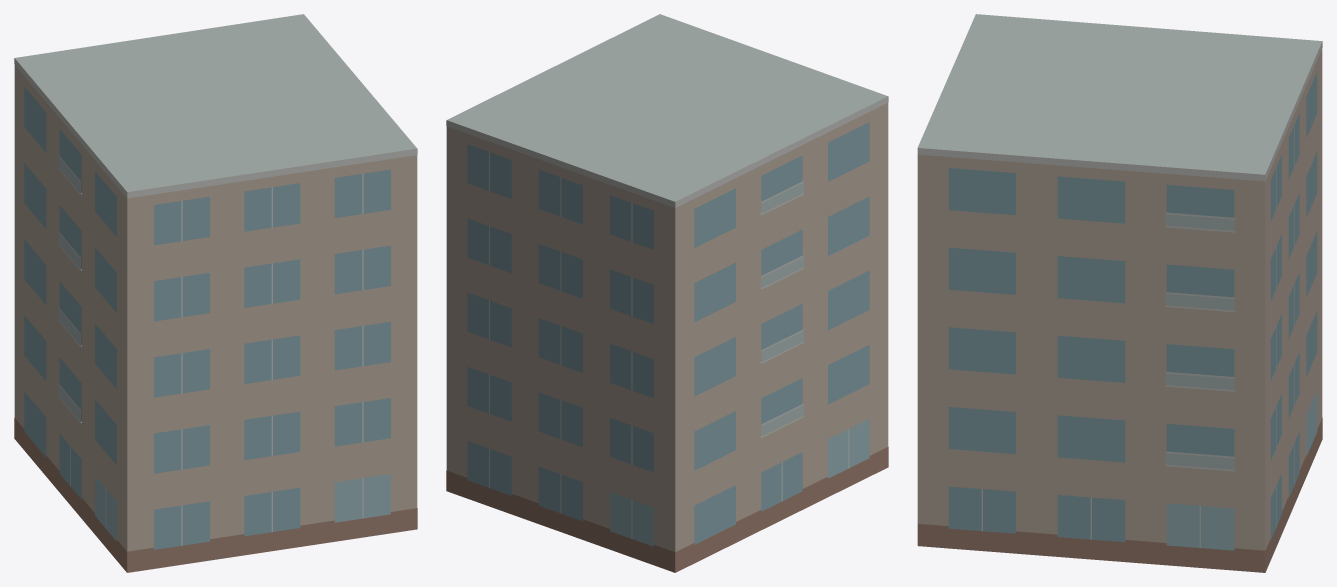
File: survey-upis-32927528.glb
3 renders of one model, left to right at view 1: azimuth 30°, elevation 25°; view 2: azimuth 150°, elevation 25°; view 3: azimuth 270°, elevation 25°, orthographic. The views are drawn at different scales.
Parts seen in each view (by area): view 1: survey-upis-32927528.tmp; view 2: survey-upis-32927528.tmp; view 3: survey-upis-32927528.tmp.
Boxes of the visible parts, x1,y1,x2,y2 form: survey-upis-32927528.tmp: [14, 14, 417, 572]; survey-upis-32927528.tmp: [446, 14, 888, 572]; survey-upis-32927528.tmp: [917, 14, 1322, 572].
Bounding box in the file's own units: 12.65 × 14.6 × 13.47.
